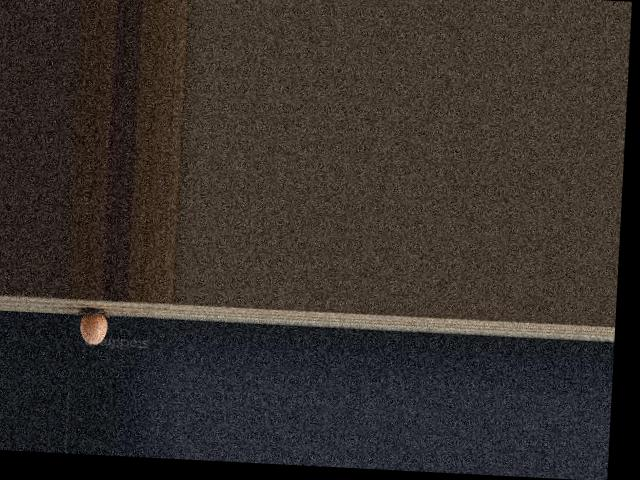egg: (78, 313, 107, 344)
